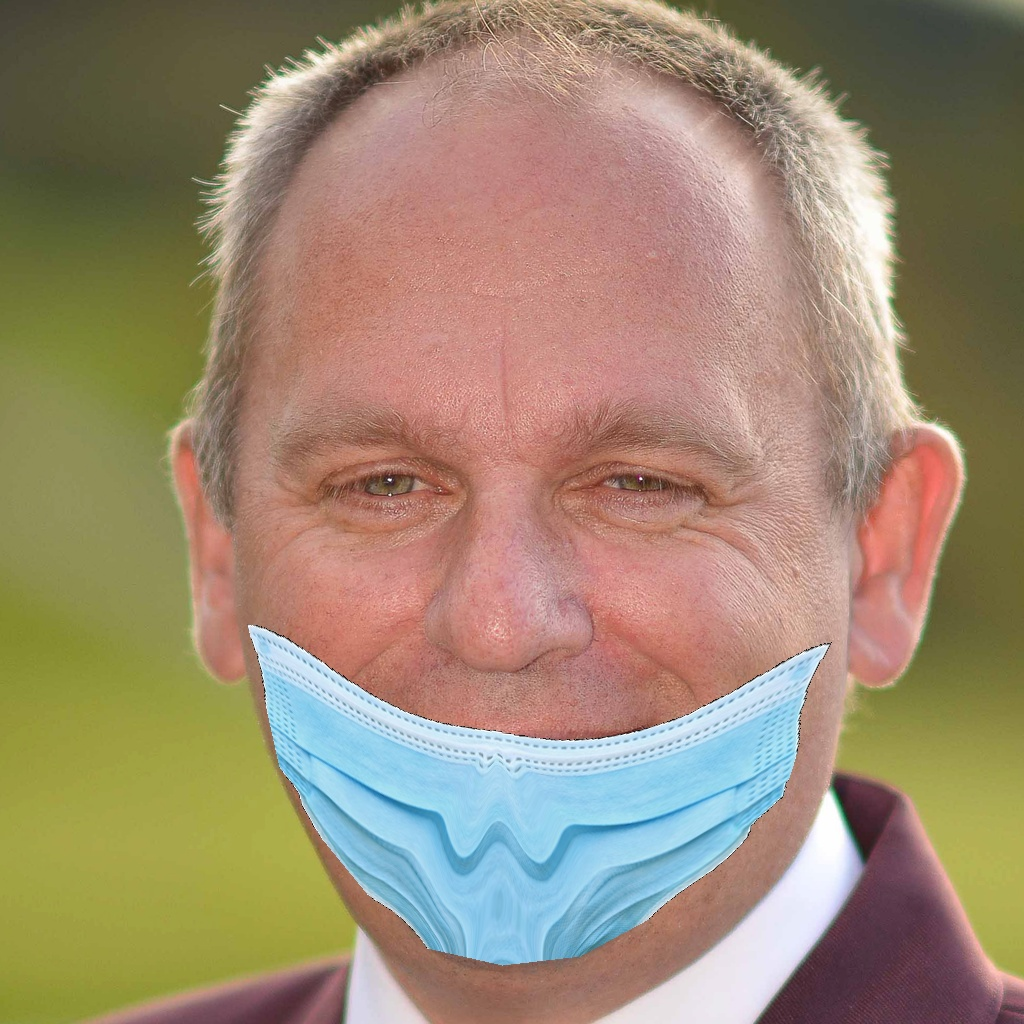mascarilla_mal_puesta: (207, 365, 884, 935)
